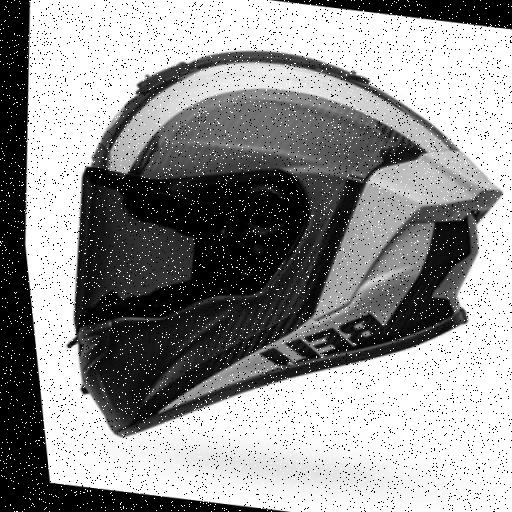Helmet: (1, 14, 512, 491)
